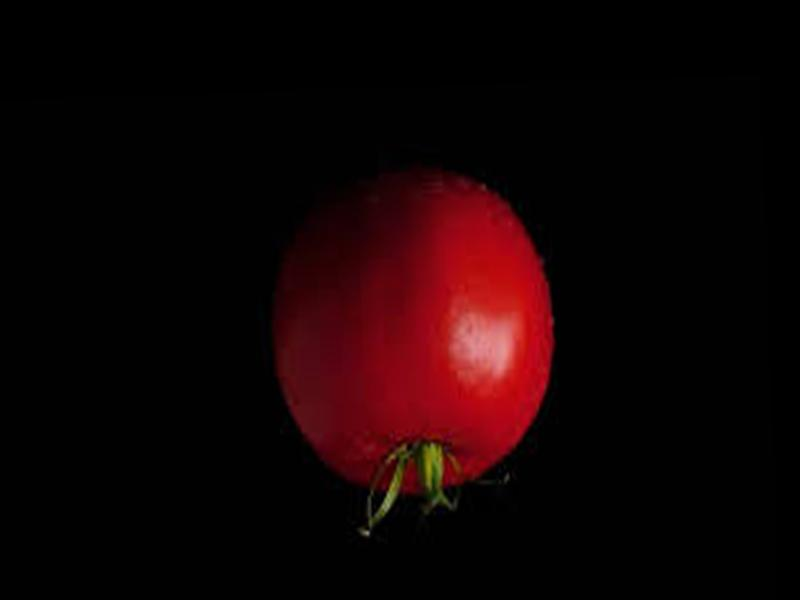Tomato: (268, 174, 557, 497)
